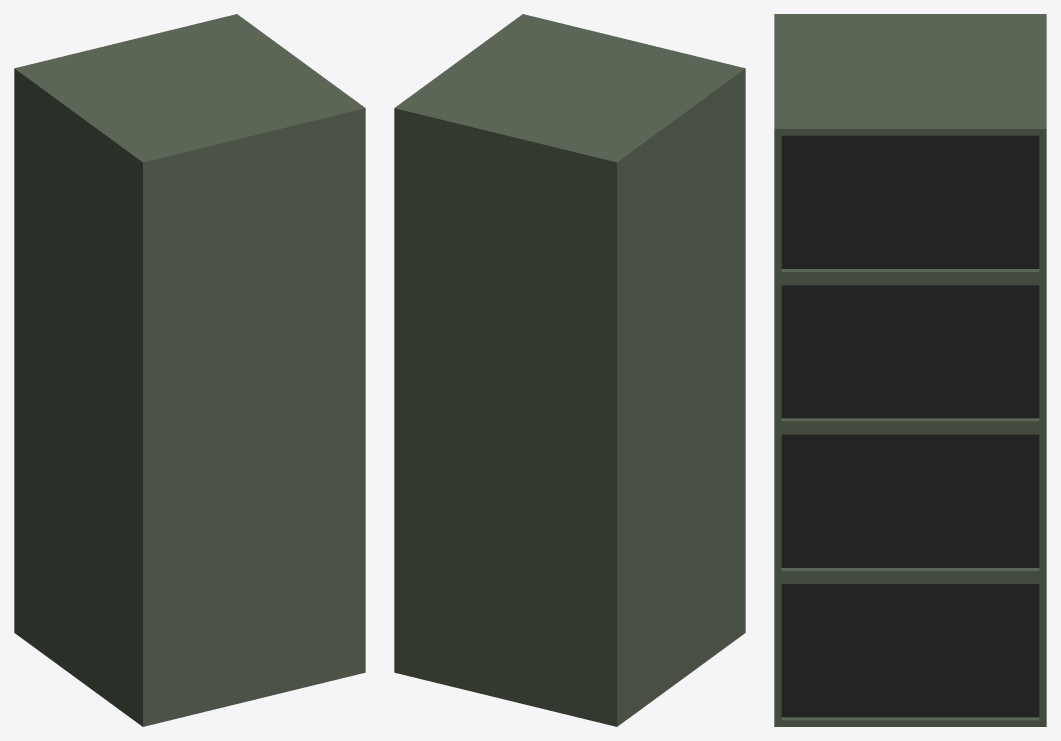
The model's file is Armario.fbx.
3 renders of one model, left to right at view 1: azimuth 30°, elevation 25°; view 2: azimuth 150°, elevation 25°; view 3: azimuth 270°, elevation 25°, orthographic. The views are drawn at different scales.
Parts seen in each view (by area): view 1: Armario; view 2: Armario; view 3: Armario.
Boxes of the visible parts, x1,y1,x2,y2 form: Armario: [14, 14, 365, 726]; Armario: [394, 14, 745, 726]; Armario: [774, 14, 1046, 726].
Bounding box in the file's own units: 200 × 484 × 200.
1 material, 1 textured.
